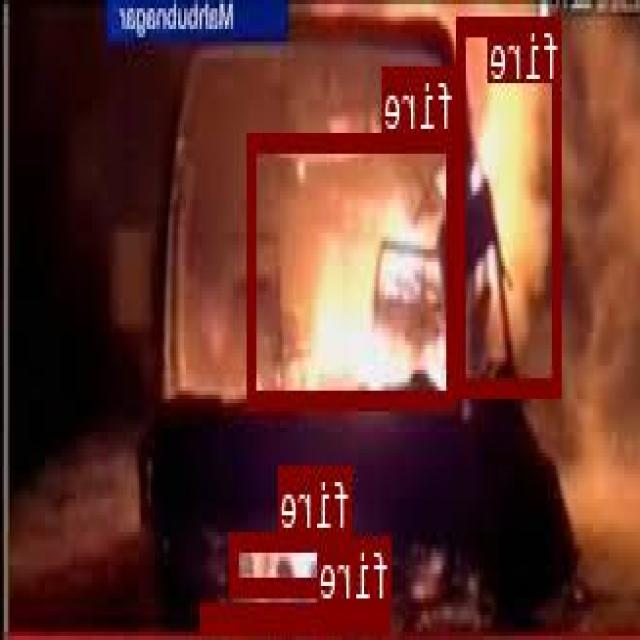fire: (250, 129, 458, 407), (460, 15, 562, 393), (232, 532, 353, 592), (203, 602, 392, 631)
